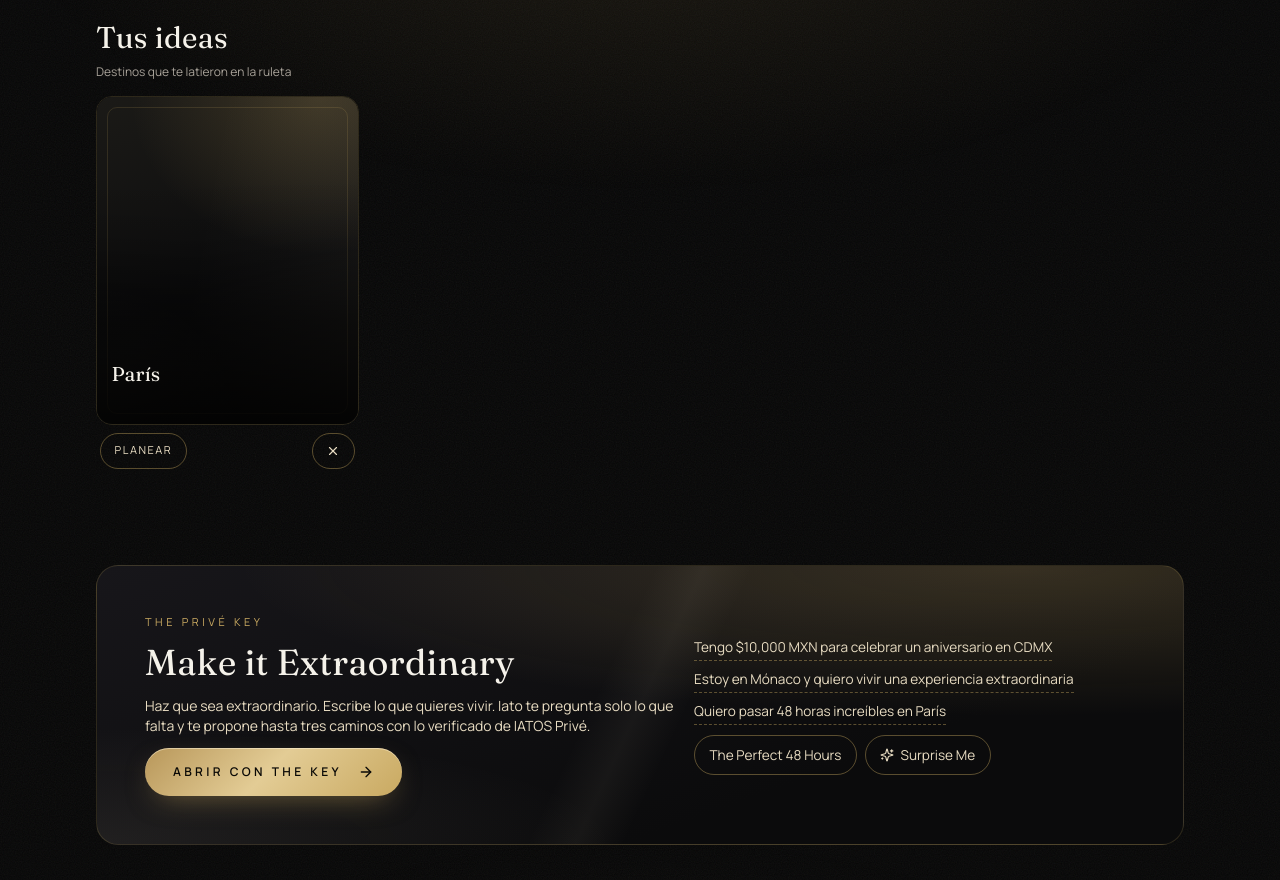
Test: Para ti es 100 % personal › las ideas persisten en el servidor: quitar una llama a prive_idea_save y desaparece
This screenshot has width=1280, height=880.
(page scrolled)
What coordinates should you click on to do the following:
click the button named "Quitar París de tus ideas"
I would click on:
 (333, 451)
Its box is [312,433,355,469].
(page scrolled)
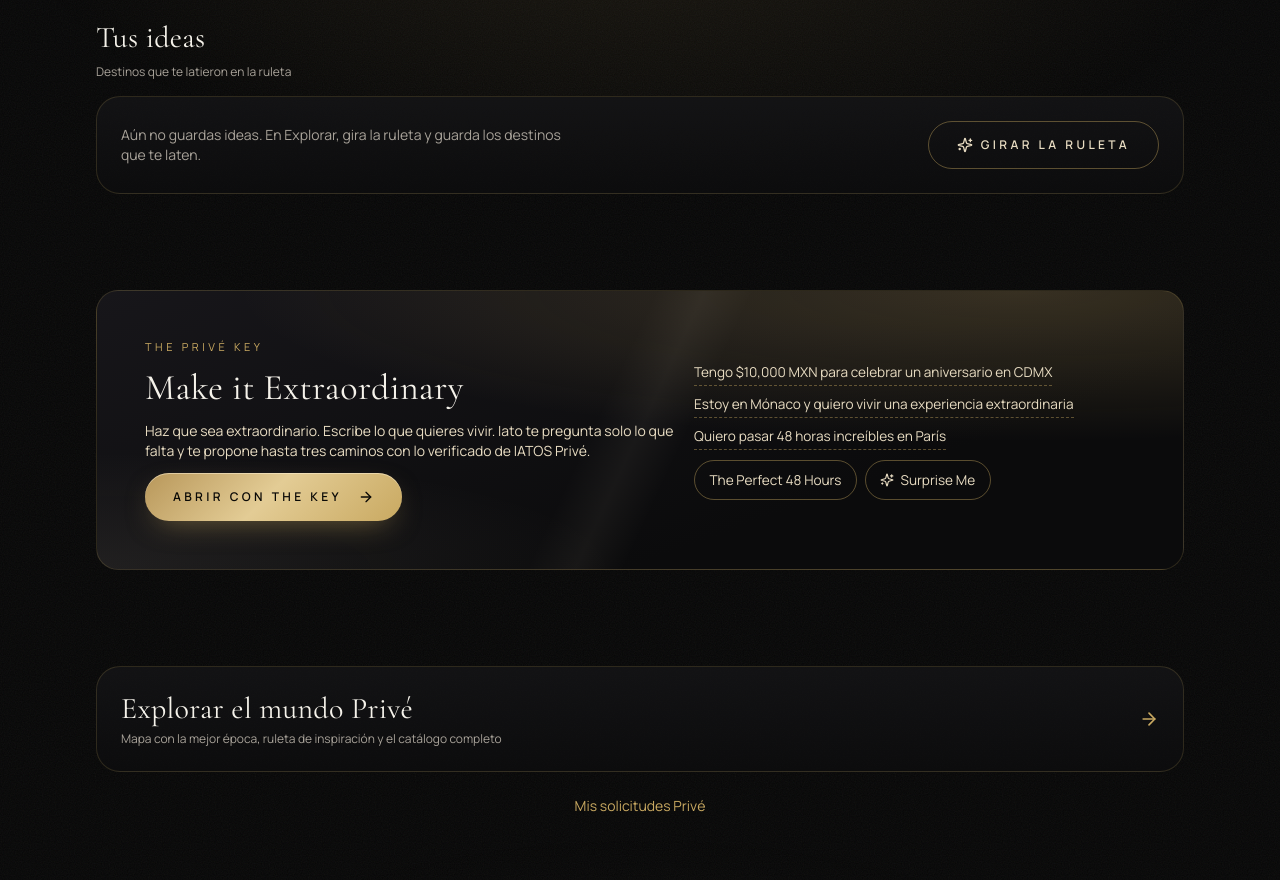
Check: the text "Aún no guardas ideas" is shown, box [121,125,561,164]
